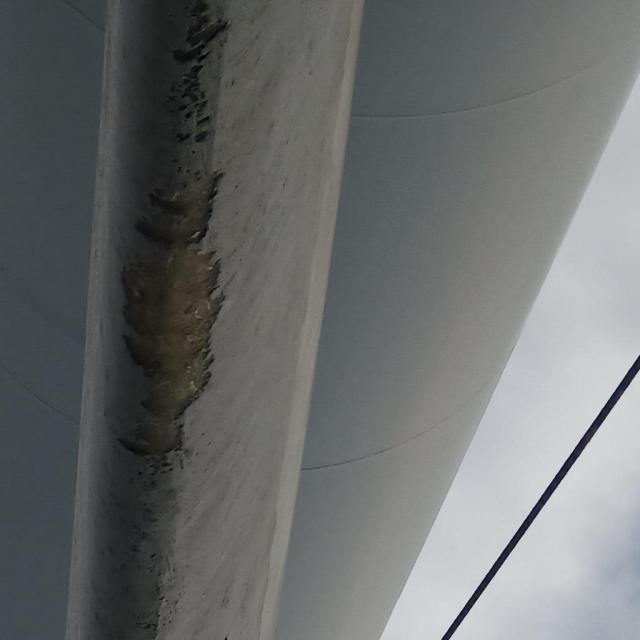corrosion: (119, 8, 242, 475)
